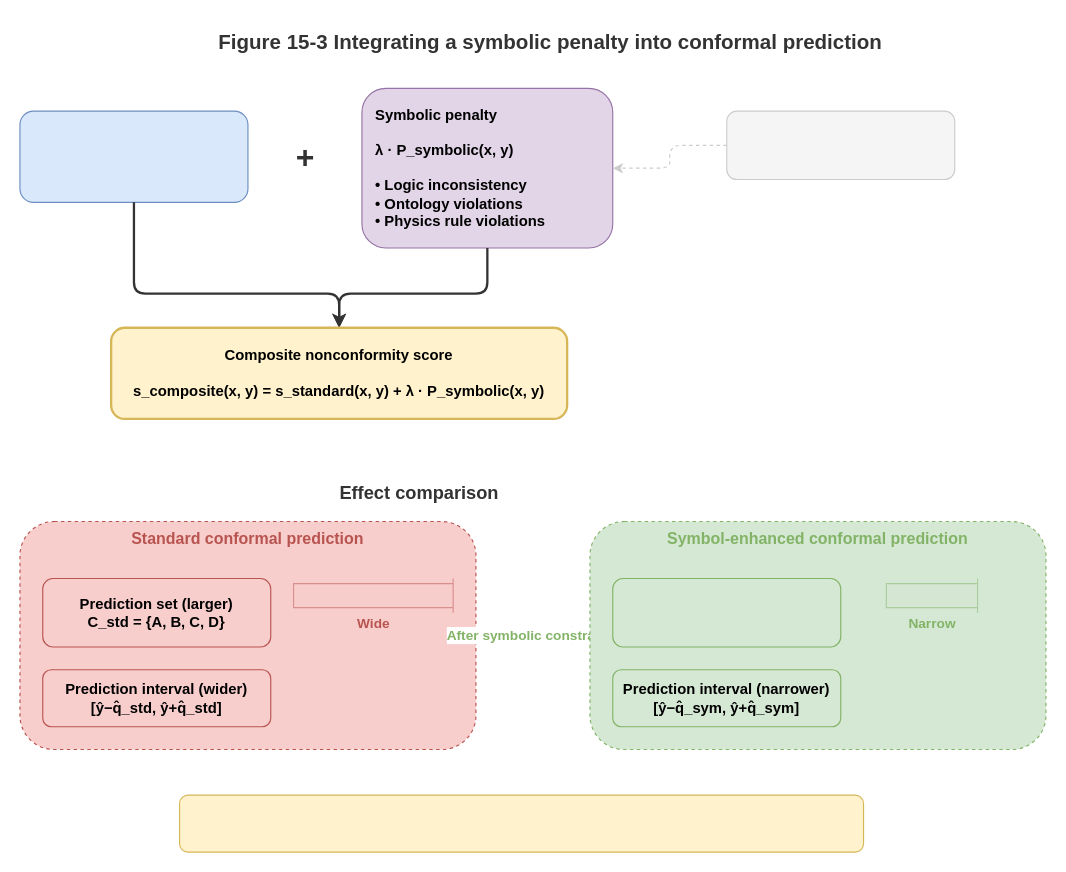
This 1066x872 diagram has some shape labels left out. The shapes that lost their labels are listed below. From the top down, each one's centre as x and y in pixels, then its label:
the point at 133,156: Standard nonconformity score s_standard(x, y)
the point at 840,145: λ: symbolic penalty weight Controls strength of symbolic constraints
the point at 726,612: Prediction set (tighter) C_sym = {A, C}
the point at 521,823: Key: coverage P(Y ∈ C) ≥ 1−α unchanged; sets become tighter and more informative
